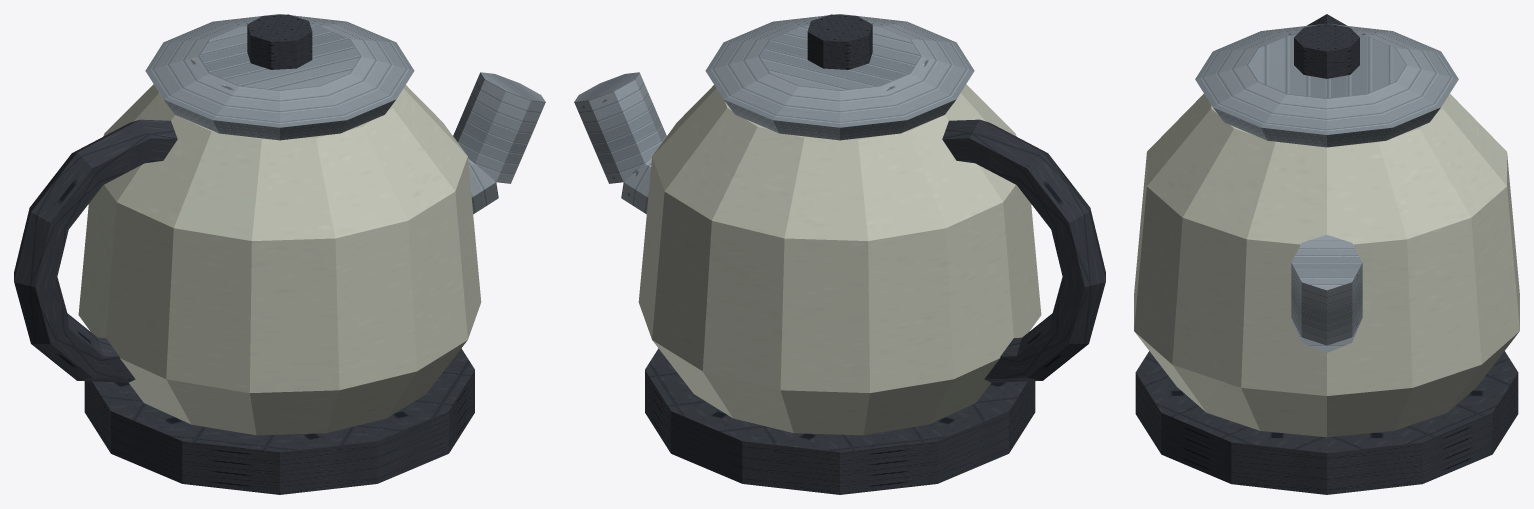
The model's file is MD_57_Kettle.fbx.
The picture shows the model from 3 angles, left to right: view 1: azimuth 30°, elevation 25°; view 2: azimuth 150°, elevation 25°; view 3: azimuth 270°, elevation 25°; orthographic projection. The views are drawn at different scales.
Visible parts, largest first — view 1: MD_57_Kettle_kettle_body, MD_57_Kettle_power_base, MD_57_Kettle_lid, MD_57_Kettle_insulated_handle, MD_57_Kettle_spout_1, MD_57_Kettle_lid_knob, MD_57_Kettle_spout_0; view 2: MD_57_Kettle_kettle_body, MD_57_Kettle_power_base, MD_57_Kettle_lid, MD_57_Kettle_insulated_handle, MD_57_Kettle_spout_1, MD_57_Kettle_lid_knob, MD_57_Kettle_spout_0; view 3: MD_57_Kettle_kettle_body, MD_57_Kettle_power_base, MD_57_Kettle_lid, MD_57_Kettle_spout_1, MD_57_Kettle_lid_knob, MD_57_Kettle_spout_0.
Boxes of the visible parts, x1,y1,x2,y2 form: MD_57_Kettle_kettle_body: (78,84,481,435); MD_57_Kettle_power_base: (84,348,474,494); MD_57_Kettle_lid: (145,14,414,140); MD_57_Kettle_insulated_handle: (14,119,177,382); MD_57_Kettle_spout_1: (453,72,545,183); MD_57_Kettle_lid_knob: (247,14,312,69); MD_57_Kettle_spout_0: (468,158,498,213); MD_57_Kettle_kettle_body: (638,84,1041,435); MD_57_Kettle_power_base: (645,348,1035,494); MD_57_Kettle_lid: (705,14,974,140); MD_57_Kettle_insulated_handle: (942,119,1105,382); MD_57_Kettle_spout_1: (574,72,666,183); MD_57_Kettle_lid_knob: (807,14,872,69); MD_57_Kettle_spout_0: (621,158,651,213); MD_57_Kettle_kettle_body: (1134,94,1519,437); MD_57_Kettle_power_base: (1135,351,1518,494); MD_57_Kettle_lid: (1195,23,1458,147); MD_57_Kettle_spout_1: (1291,235,1362,345); MD_57_Kettle_lid_knob: (1294,23,1359,78); MD_57_Kettle_spout_0: (1292,319,1361,352).
Size of the model in its own units: 0.4521 by 0.315 by 0.2925.
Materials: 3 (3 with a texture image).
